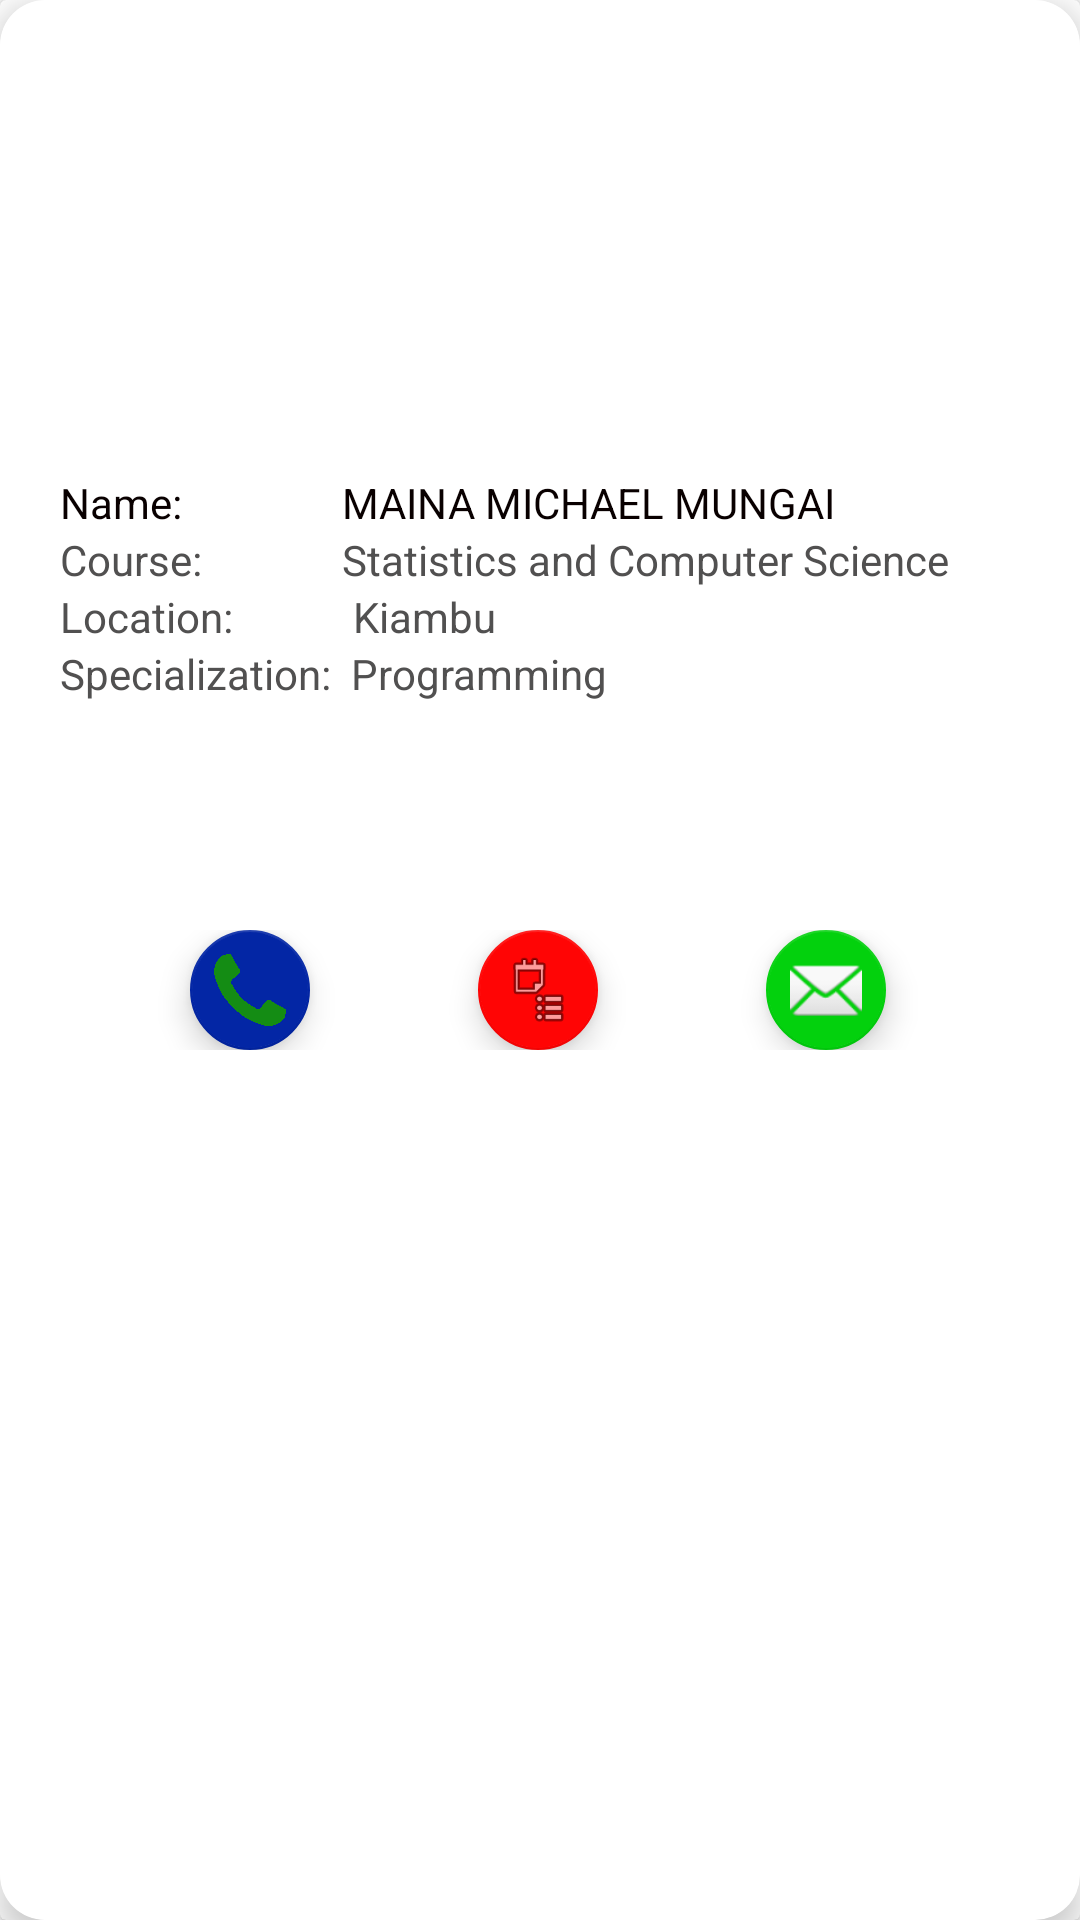

Point at icon controls on the screen. Image size 1080px x 1920px, points as (x,y).
agenda: (538,990)
call: (250,990)
email: (826,990)
